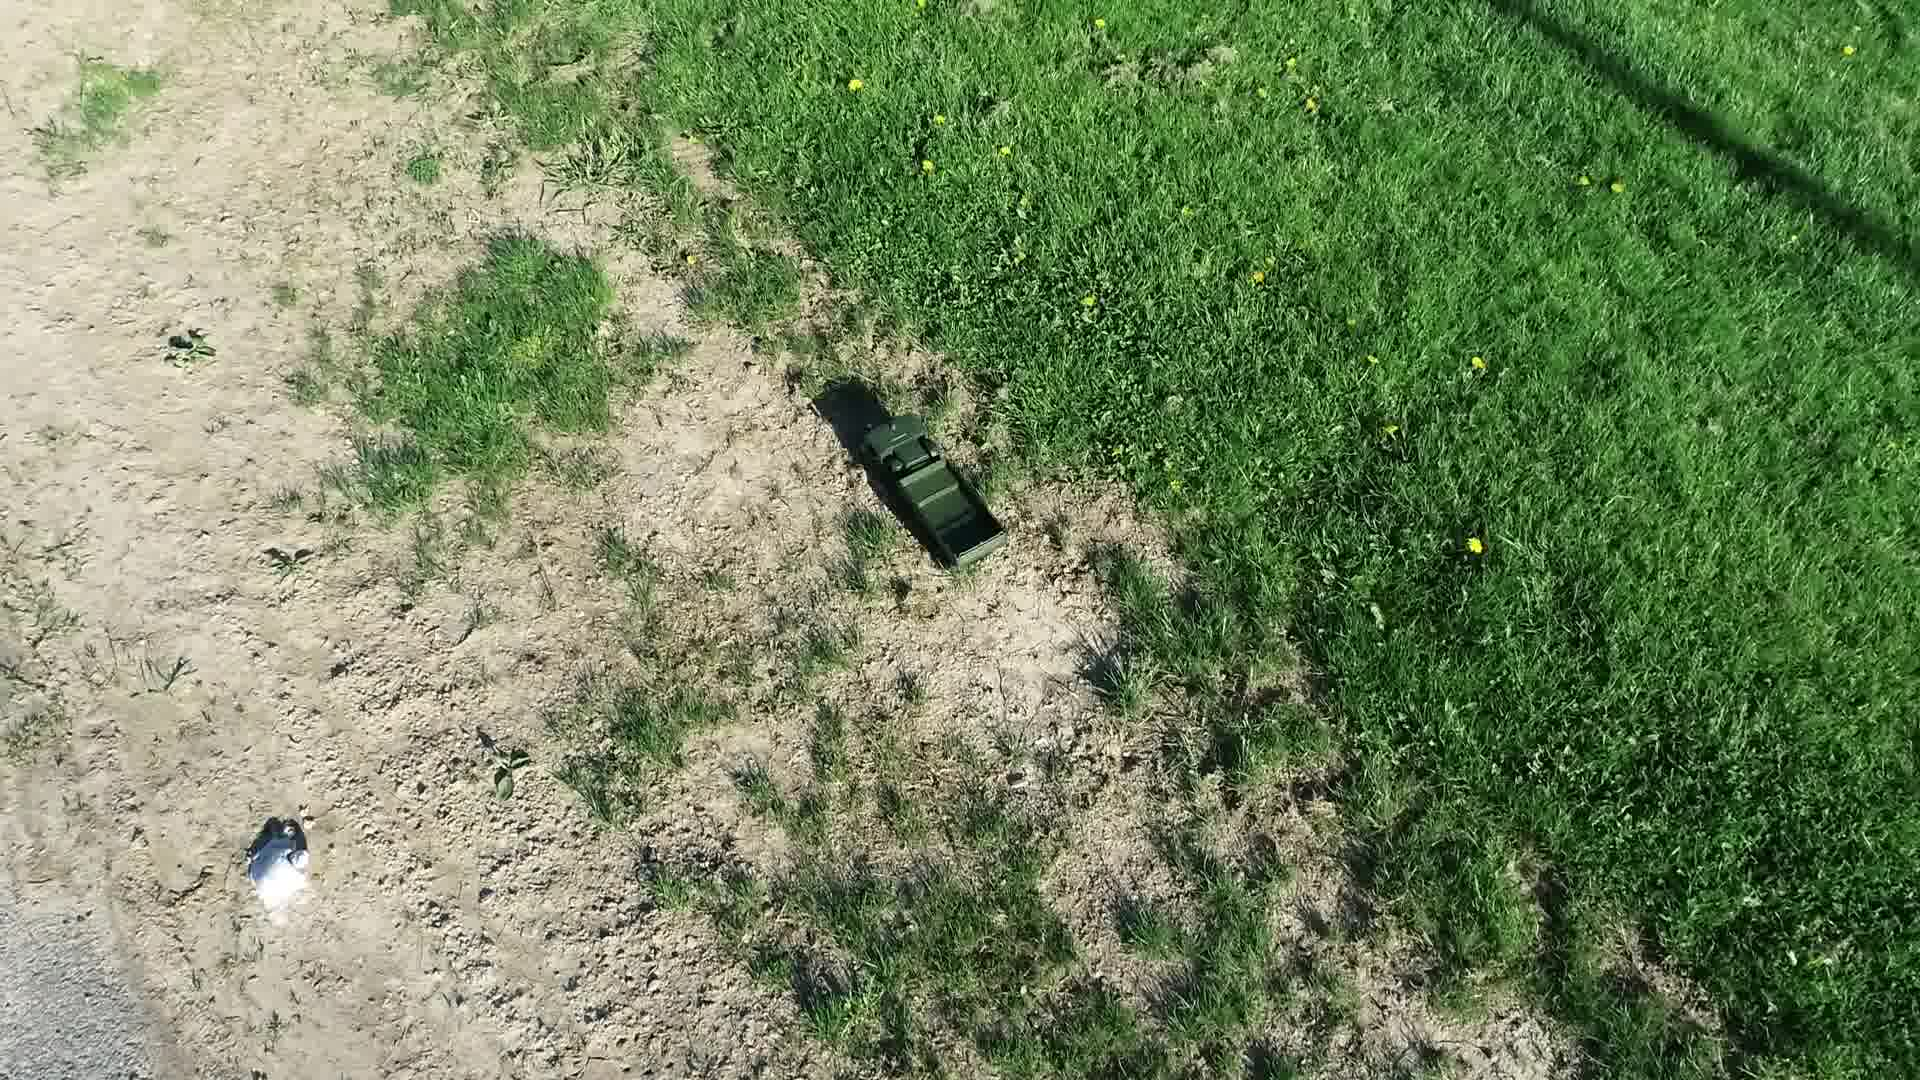transporter9: (856, 404, 1027, 583)
